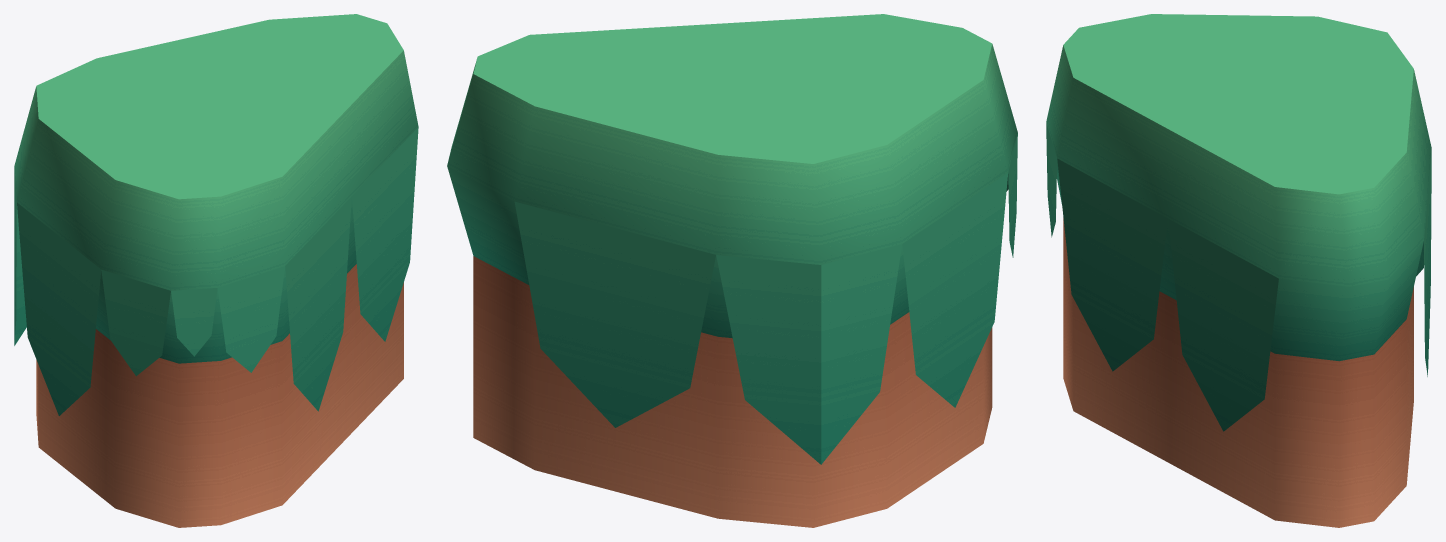
File: block-grass-corner-overhang-low.019_lev2.glb
The picture shows the model from 3 angles, left to right: view 1: azimuth 30°, elevation 25°; view 2: azimuth 150°, elevation 25°; view 3: azimuth 270°, elevation 25°; orthographic projection. The views are drawn at different scales.
Visible parts, largest first — view 1: block-grass-corner-overhang-low.019_lev2; view 2: block-grass-corner-overhang-low.019_lev2; view 3: block-grass-corner-overhang-low.019_lev2.
Boxes of the visible parts, box(x1,y1,x2,y2) form: block-grass-corner-overhang-low.019_lev2: box(14, 14, 418, 527); block-grass-corner-overhang-low.019_lev2: box(447, 14, 1017, 527); block-grass-corner-overhang-low.019_lev2: box(1046, 14, 1431, 527).
Size of the model in its own units: 2.23 by 1.74 by 1.83.
1 material, 1 textured.
